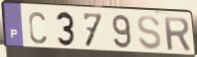3: (55, 10, 76, 48)
7: (81, 12, 104, 49)
9: (109, 13, 133, 50)
C: (27, 10, 49, 46)
R: (162, 16, 193, 52)
S: (136, 14, 163, 52)
